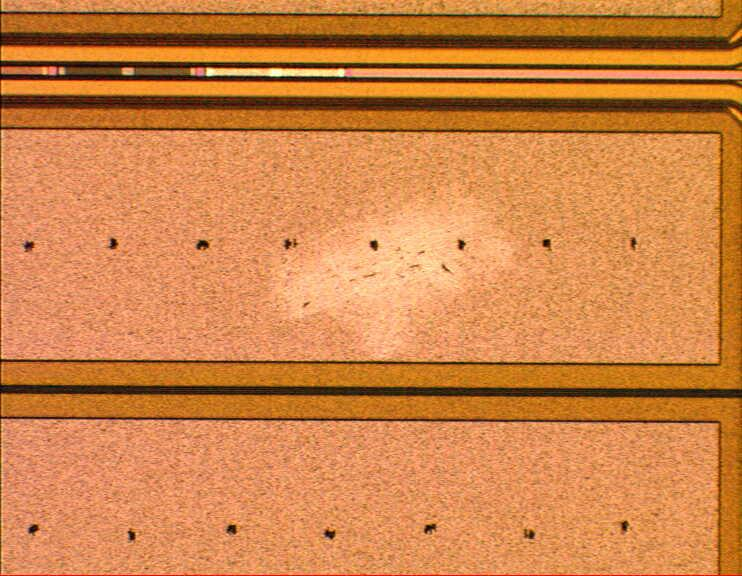SCRATCH: (261, 185, 526, 366)
